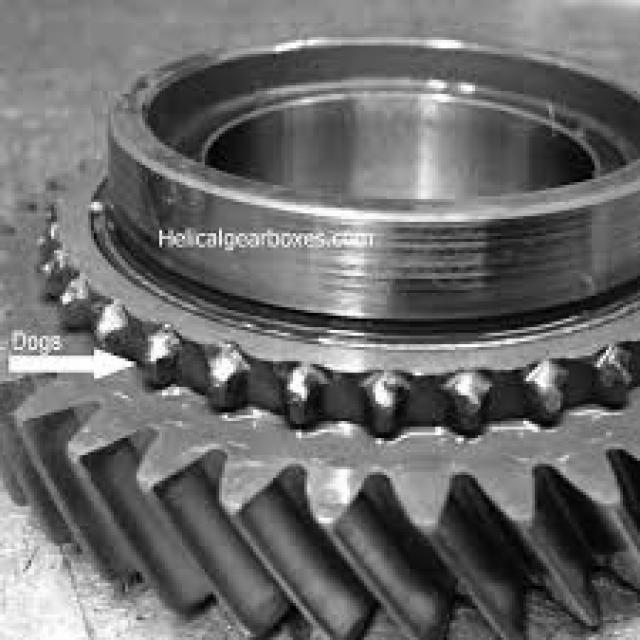No Fault: (11, 116, 635, 624)
